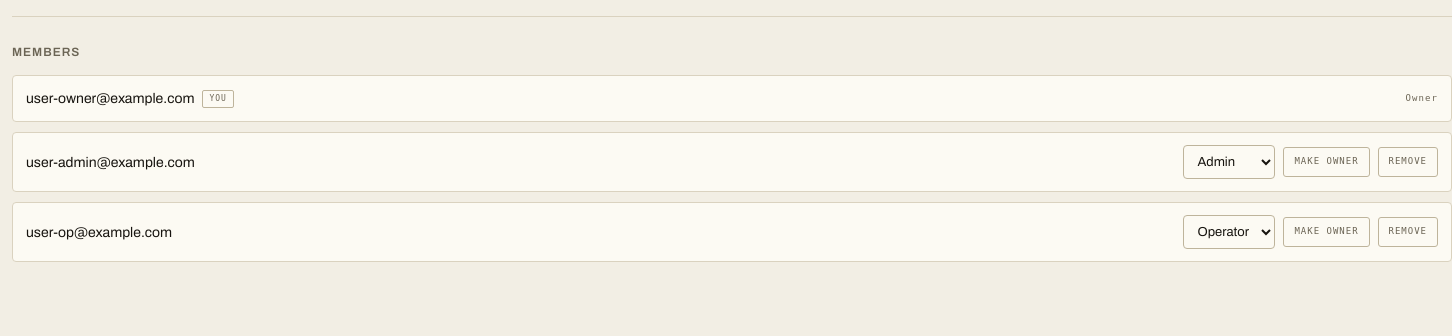
it: MemberList actions › reports a refused action without losing the list
Step 1. Click the button "REMOVE" in the row of "user-admin@example.com" → (1408, 162), box [1378, 147, 1438, 177]
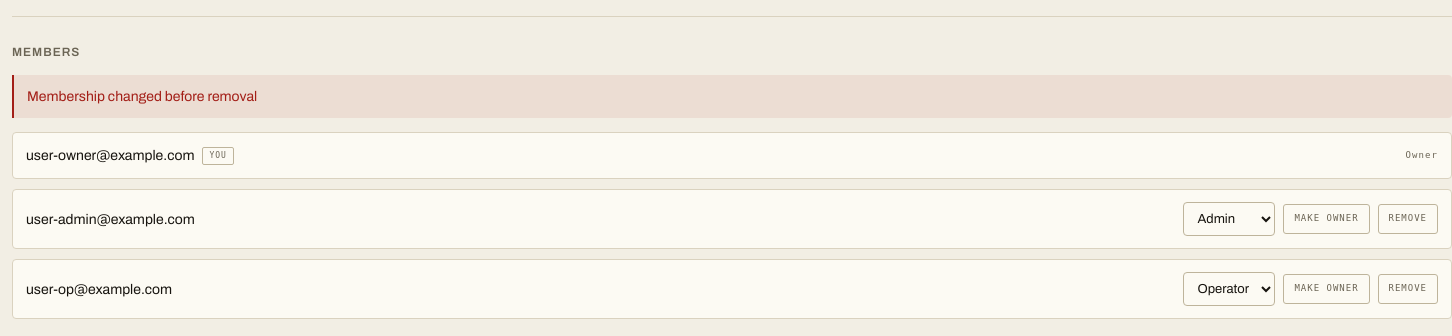
Expected: the message reads "Membership changed before removal", [27, 89, 257, 104]
